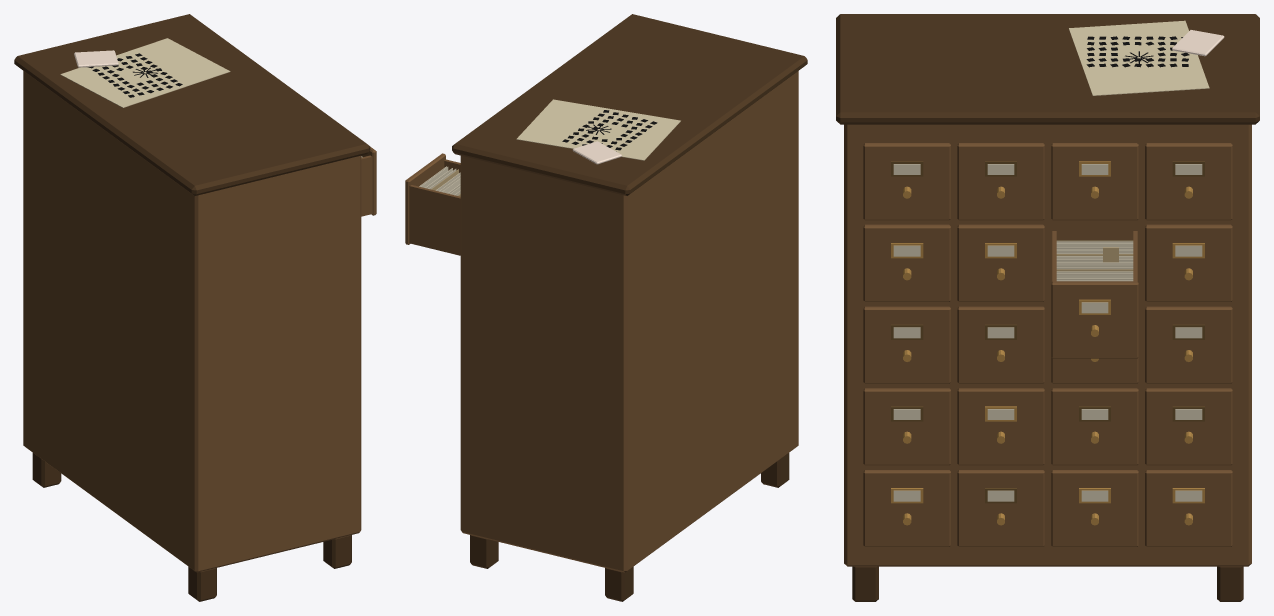
Rendered from lore_catalog.glb.
The picture shows the model from 3 angles, left to right: view 1: azimuth 30°, elevation 25°; view 2: azimuth 150°, elevation 25°; view 3: azimuth 270°, elevation 25°; orthographic projection. The views are drawn at different scales.
Visible parts, largest first — view 1: teil1, teil0, teil8, teil9, teil10; view 2: teil1, teil0, teil8, teil9, teil7, teil10; view 3: teil1, teil0, teil8, teil3, teil7, teil5, teil2, teil4, teil9, teil10, teil6.
Boxes of the visible parts, <box> form: teil1: <box>23,71,376,572</box>; teil0: <box>14,14,370,601</box>; teil8: <box>60,38,230,107</box>; teil9: <box>87,53,182,97</box>; teil10: <box>74,50,118,67</box>; teil1: <box>405,71,798,572</box>; teil0: <box>452,14,807,601</box>; teil8: <box>516,99,680,160</box>; teil9: <box>562,110,657,151</box>; teil7: <box>419,166,460,195</box>; teil10: <box>572,141,621,164</box>; teil1: <box>844,124,1251,566</box>; teil0: <box>836,14,1259,601</box>; teil8: <box>1069,20,1209,95</box>; teil3: <box>893,164,1202,501</box>; teil7: <box>1056,241,1133,281</box>; teil5: <box>891,161,1204,503</box>; teil2: <box>891,161,1204,503</box>; teil4: <box>903,186,1192,525</box>; teil9: <box>1086,36,1189,67</box>; teil10: <box>1172,30,1224,56</box>; teil6: <box>1056,240,1133,271</box>.
Bounding box in the file's own units: 0.715 × 1.03 × 0.79.
